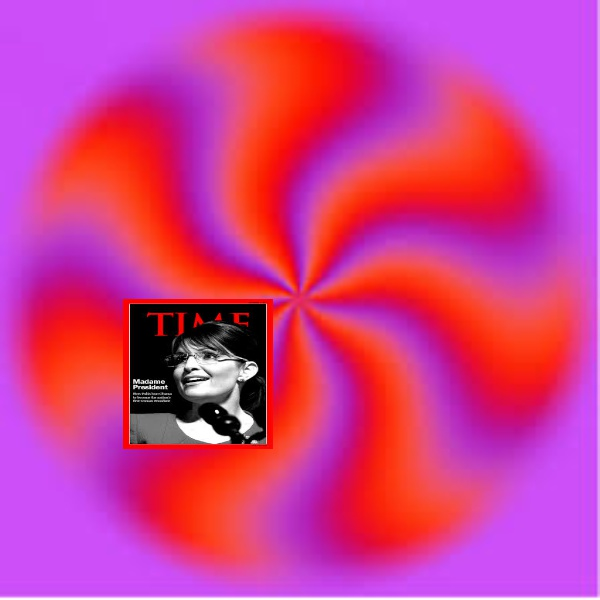time_cover: (117, 287, 270, 453)
